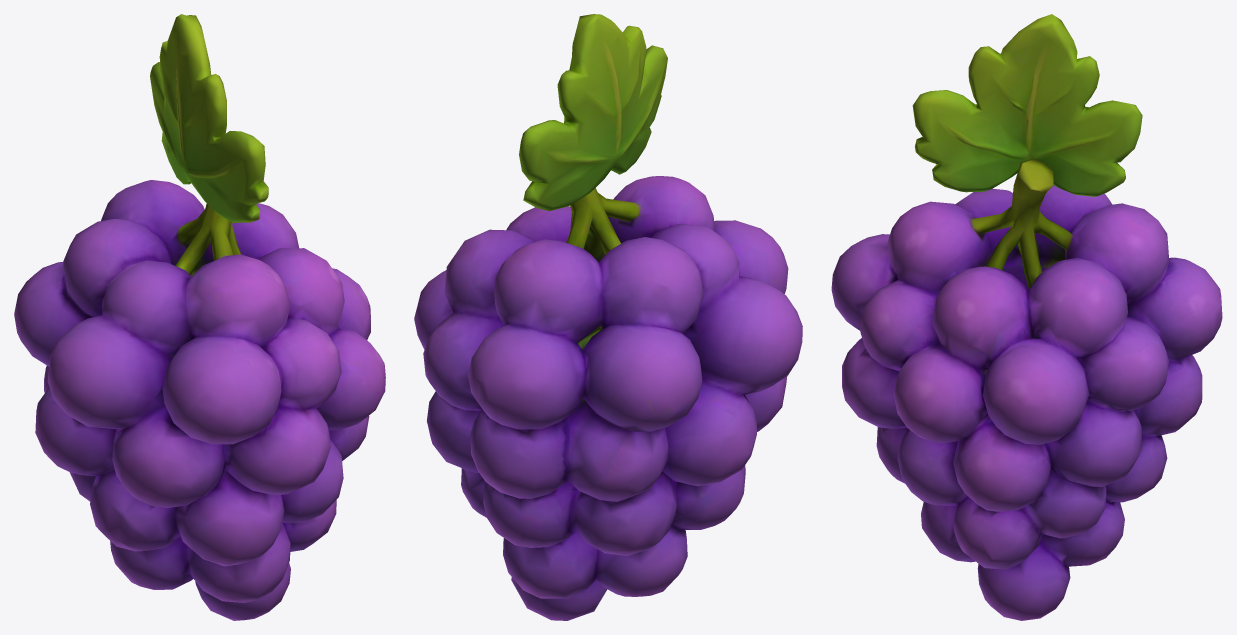
File: grapes.glb
3 views of the same model, side by side, from view 1: azimuth 30°, elevation 25°; view 2: azimuth 150°, elevation 25°; view 3: azimuth 270°, elevation 25° (orthographic). The views are drawn at different scales.
Parts seen in each view (by area): view 1: tripo_node_090816b6-9b10-4b23-b608-797f729eaafe; view 2: tripo_node_090816b6-9b10-4b23-b608-797f729eaafe; view 3: tripo_node_090816b6-9b10-4b23-b608-797f729eaafe.
Part boxes in pixels (bbox=[...]): tripo_node_090816b6-9b10-4b23-b608-797f729eaafe: bbox=[14, 14, 385, 620]; tripo_node_090816b6-9b10-4b23-b608-797f729eaafe: bbox=[414, 14, 802, 620]; tripo_node_090816b6-9b10-4b23-b608-797f729eaafe: bbox=[831, 14, 1222, 620].
Size of the model in its own units: 0.5795 by 1 by 0.6102.
Materials: 1 (1 with a texture image).
